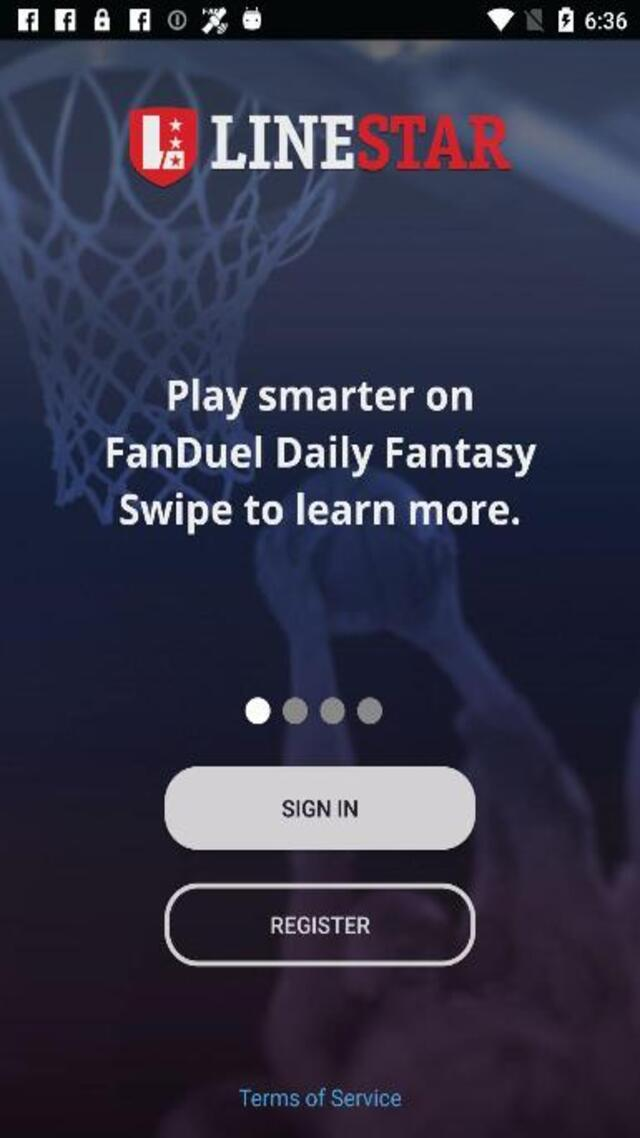Image: (127, 107, 511, 188)
Text: (105, 431, 540, 482), (114, 489, 522, 537), (164, 376, 478, 420), (236, 1084, 402, 1110), (266, 912, 374, 939), (279, 793, 361, 820)
TextButton: (162, 766, 476, 849), (162, 883, 476, 966)
